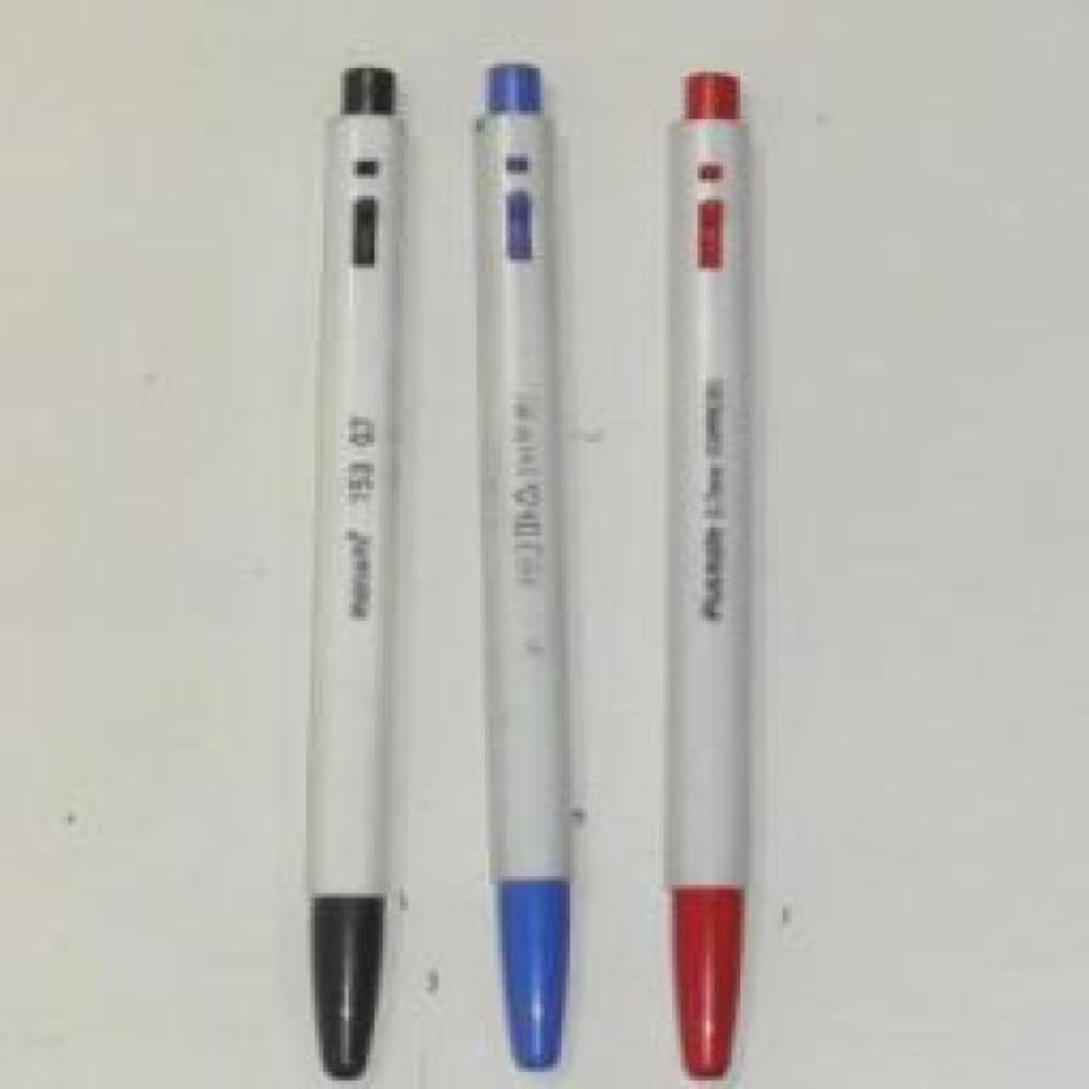pen: (306, 65, 417, 1086)
